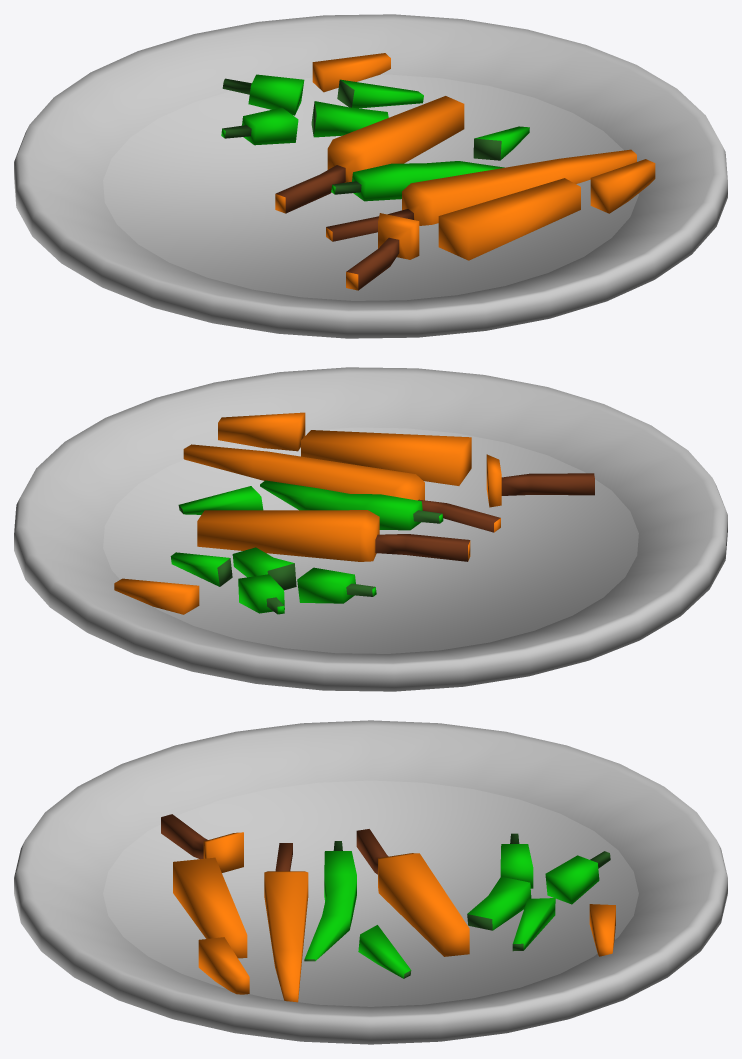
The model's file is mixed_veggies.fbx.
3 views of the same model, one above another, from view 1: azimuth 30°, elevation 25°; view 2: azimuth 150°, elevation 25°; view 3: azimuth 270°, elevation 25° (orthographic).
Visible parts, largest first — view 1: Cylinder.002, Cube.007, Cube.001, Cube.009, Cube.013, Cube.010, Cube.011, Cube.006, Cube.003, Cube.005, Cube.002, Cube.004 (+1 smaller); view 2: Cylinder.002, Cube.001, Cube.007, Cube.009, Cube.013, Cube.011, Cube.010, Cube.003, Cube.005, Cube.002, Cube.006, Cube.014 (+1 smaller); view 3: Cylinder.002, Cube.001, Cube.007, Cube.009, Cube.013, Cube.010, Cube.002, Cube.006, Cube.011, Cube.014, Cube.004, Cube.003 (+1 smaller).
Boxes of the visible parts, x1,y1,x2,y2 form: Cylinder.002: (14, 14, 727, 338); Cube.007: (326, 149, 636, 241); Cube.001: (275, 96, 464, 213); Cube.009: (438, 178, 580, 260); Cube.013: (331, 161, 504, 201); Cube.010: (346, 213, 419, 290); Cube.011: (590, 159, 655, 213); Cube.006: (222, 74, 304, 115); Cube.003: (221, 107, 298, 145); Cube.005: (312, 53, 390, 92); Cube.002: (311, 101, 388, 137); Cube.004: (337, 79, 423, 108); Cylinder.002: (14, 367, 727, 691); Cube.001: (197, 510, 470, 561); Cube.007: (183, 444, 500, 532); Cube.009: (301, 430, 471, 485); Cube.013: (260, 480, 443, 530); Cube.011: (218, 412, 305, 451); Cube.010: (486, 454, 594, 507); Cube.003: (297, 567, 376, 603); Cube.005: (114, 578, 199, 614); Cube.002: (232, 547, 296, 590); Cube.006: (238, 574, 284, 614); Cube.014: (178, 486, 263, 514); Cylinder.002: (14, 720, 727, 1044); Cube.001: (356, 829, 469, 956); Cube.007: (264, 843, 308, 1002); Cube.009: (173, 857, 247, 958); Cube.013: (304, 841, 356, 961); Cube.010: (161, 814, 243, 872); Cube.002: (467, 876, 531, 930); Cube.006: (545, 851, 610, 904); Cube.011: (198, 937, 249, 994); Cube.014: (358, 925, 411, 978); Cube.004: (512, 898, 555, 951); Cube.003: (500, 833, 533, 888).
Size of the model in its own units: 159 by 20.05 by 159.
